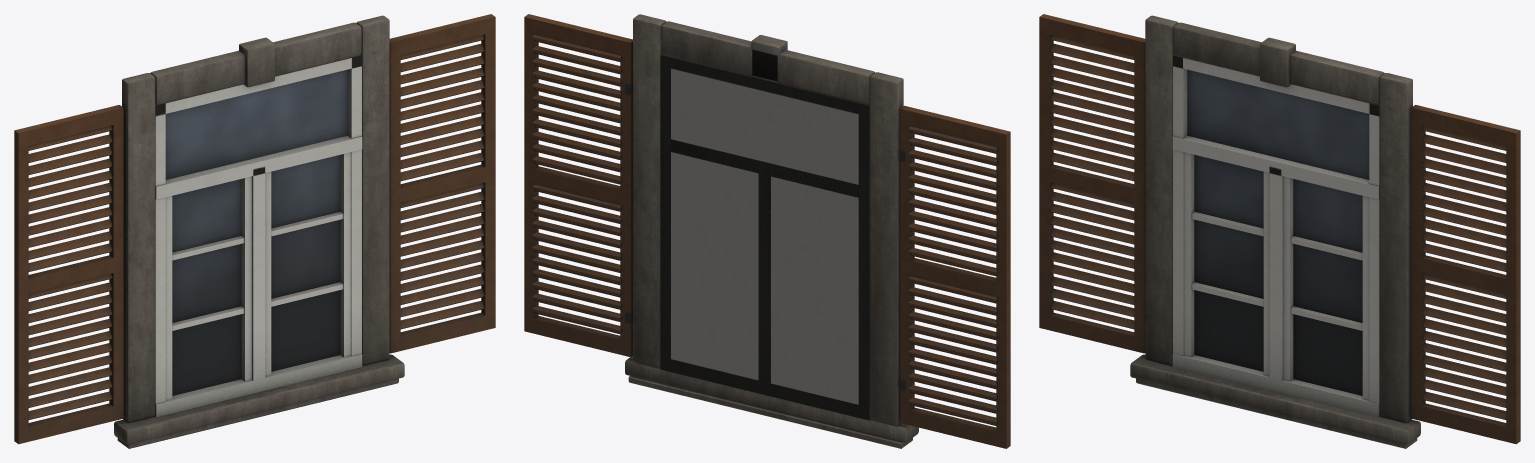
File: win_town_brown.glb
3 views of the same model, side by side, from view 1: azimuth 30°, elevation 25°; view 2: azimuth 150°, elevation 25°; view 3: azimuth 330°, elevation 25° (orthographic).
Parts seen in each view (by area): view 1: win_town_brown; view 2: win_town_brown; view 3: win_town_brown.
Part boxes in pixels (bbox=[...]): win_town_brown: bbox=[14, 14, 495, 448]; win_town_brown: bbox=[524, 14, 1010, 448]; win_town_brown: bbox=[1039, 14, 1520, 448].
Bounding box in the file's own units: 2.36 × 1.74 × 0.1242.
Materials: 1 (1 with a texture image).
